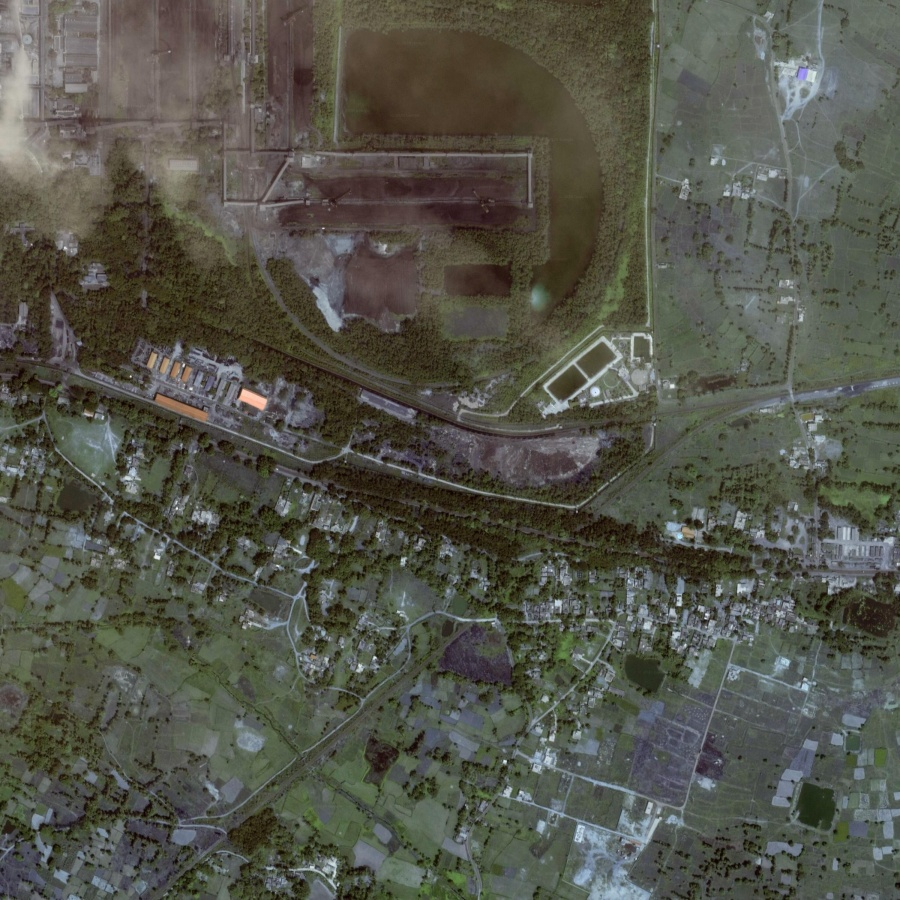PowerPlant: (259, 151, 543, 337)
